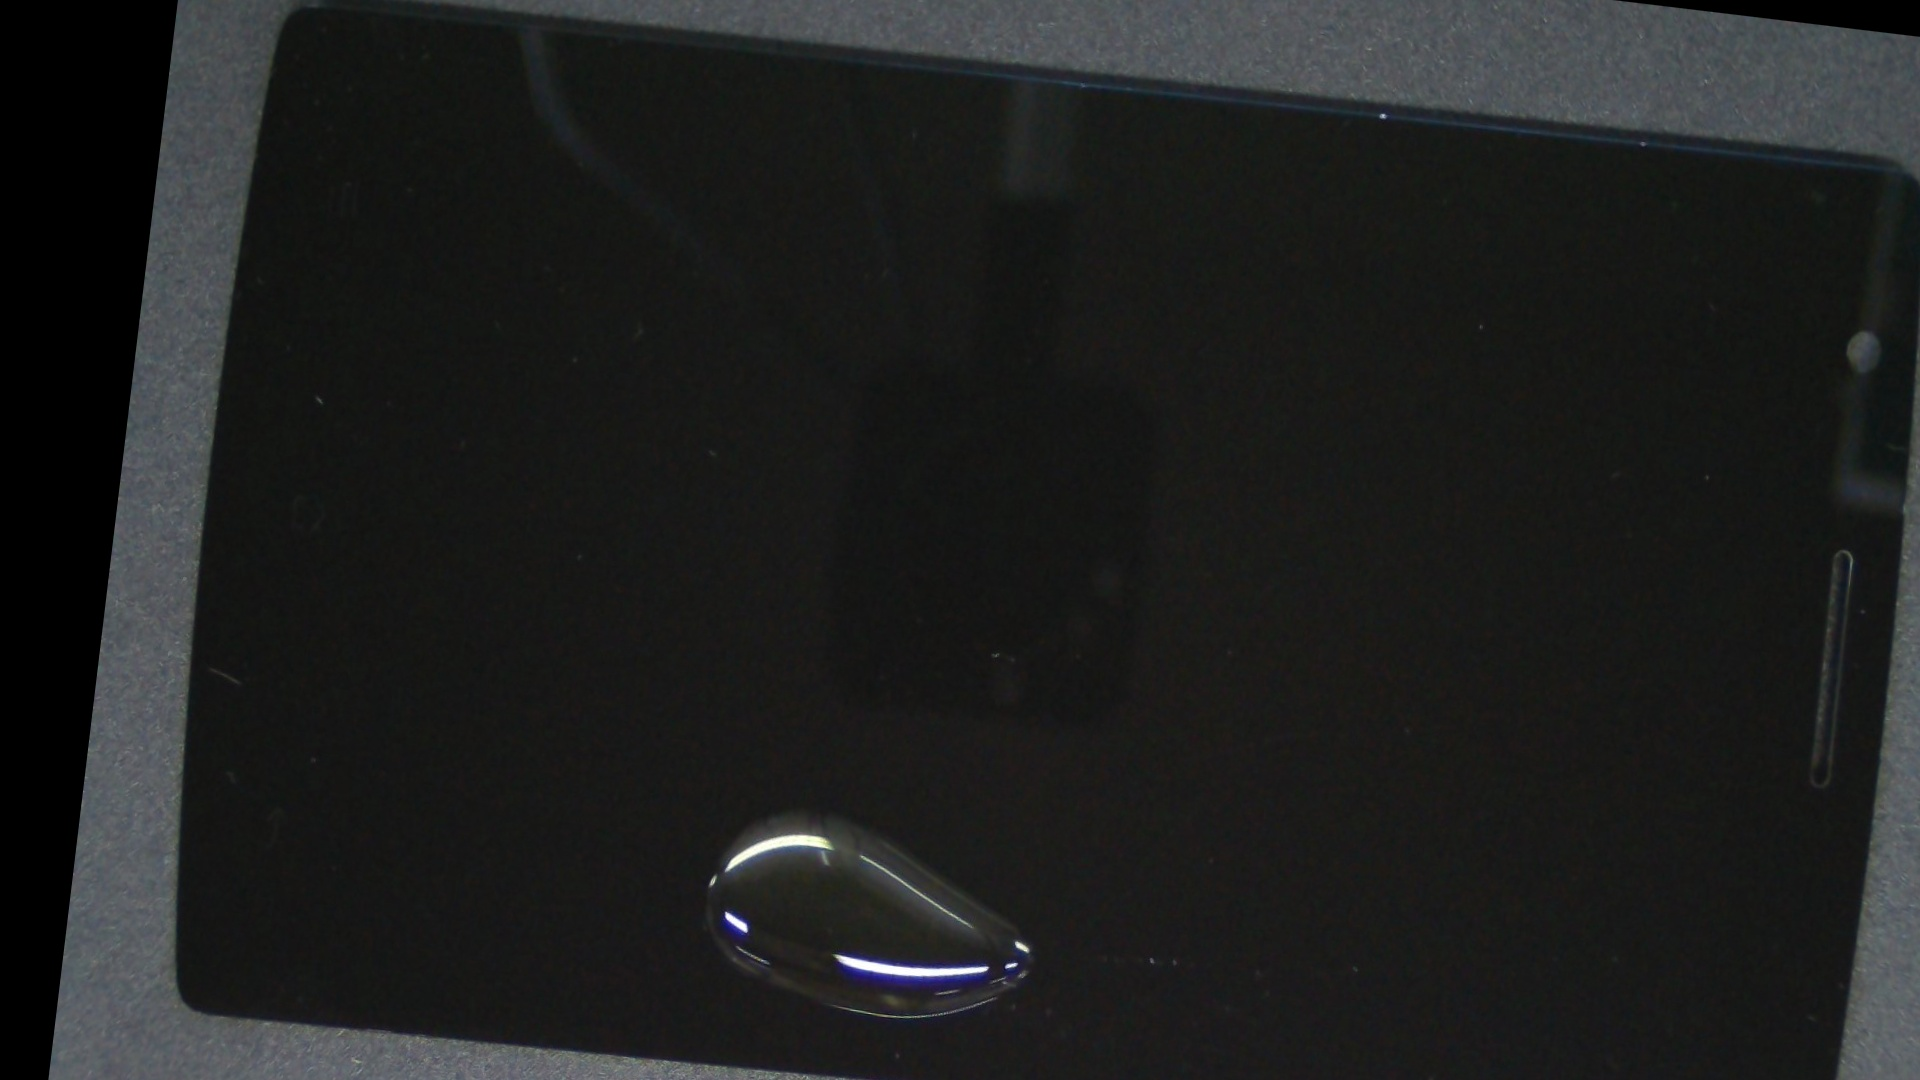oil: (405, 318, 1215, 1080)
